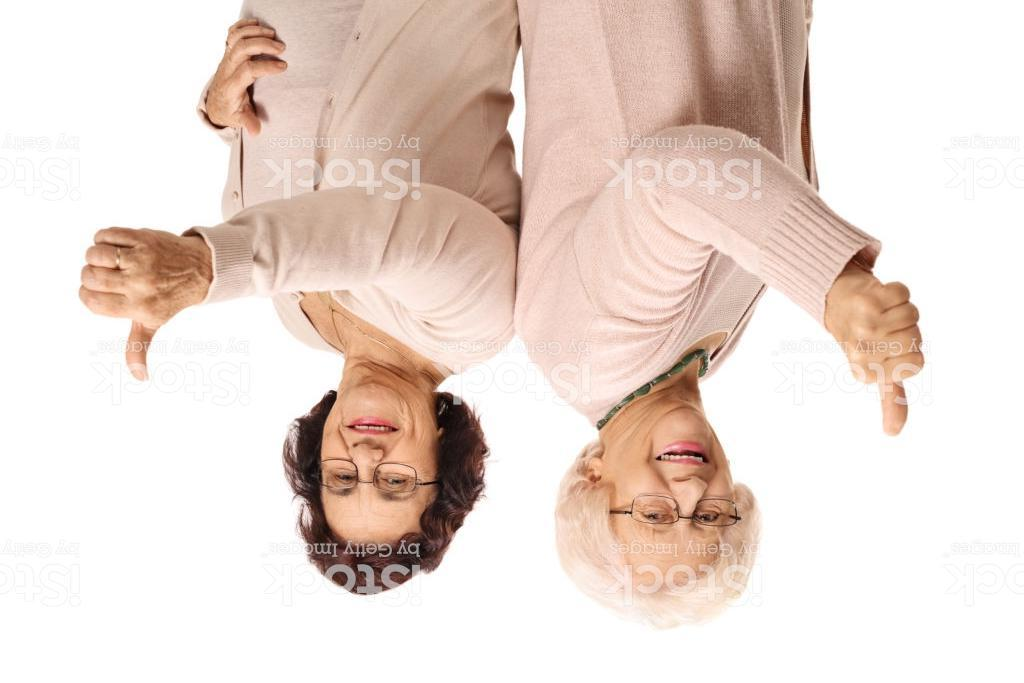thumbsdown: (76, 223, 173, 384), (844, 278, 926, 439)
